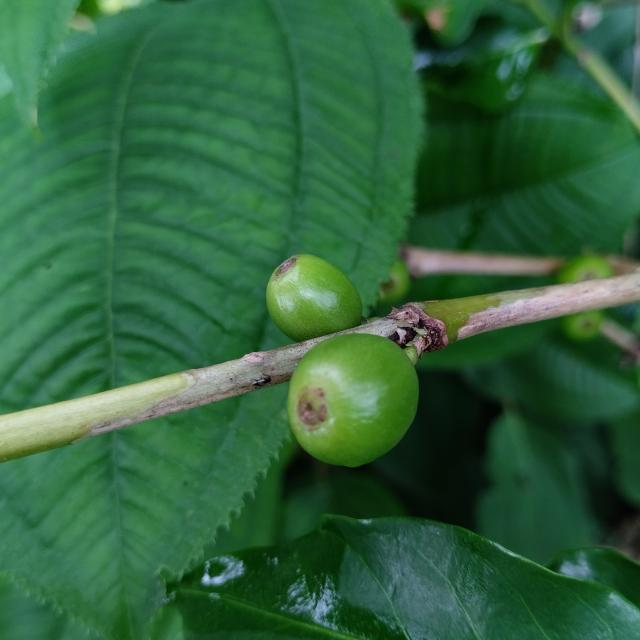green: (288, 334, 419, 467), (266, 254, 362, 342)
